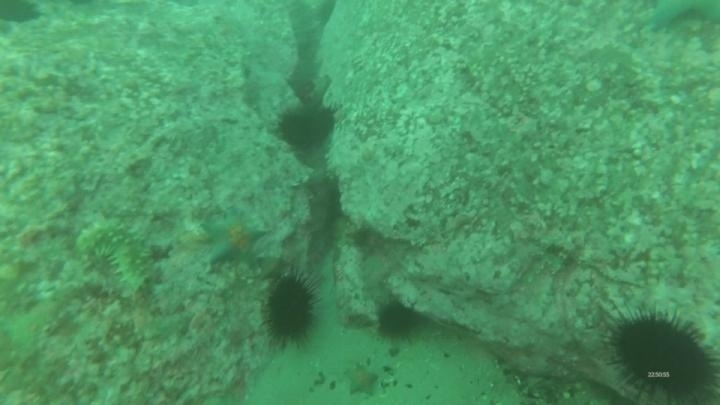echinus: (604, 306, 718, 403), (260, 271, 322, 347), (276, 107, 321, 151), (374, 298, 419, 341), (302, 103, 338, 146), (1, 1, 42, 26)
holothurian: (71, 221, 155, 300)
starfish: (199, 208, 270, 271), (645, 1, 720, 35), (343, 363, 381, 398)
